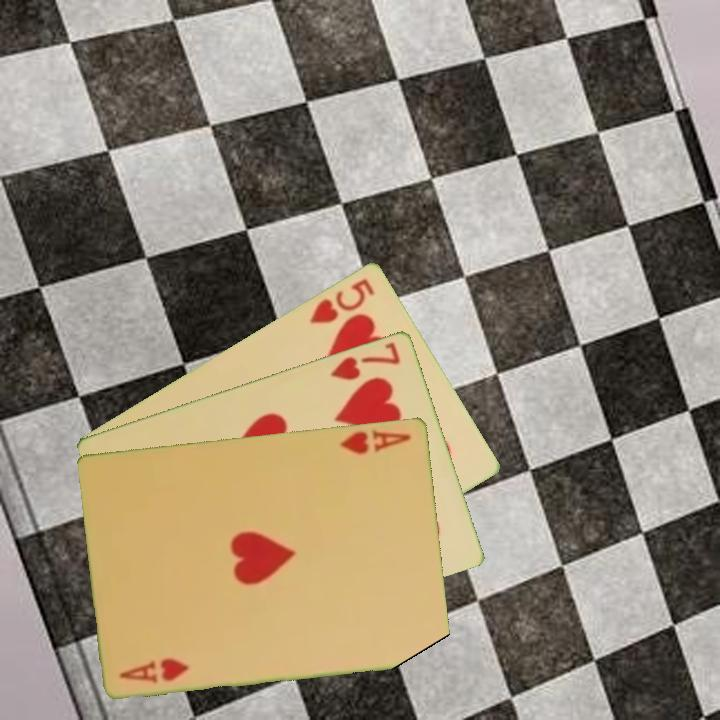5h: (305, 274, 378, 326)
7h: (326, 337, 404, 383)
Ah: (337, 425, 414, 457), (116, 654, 192, 686)
